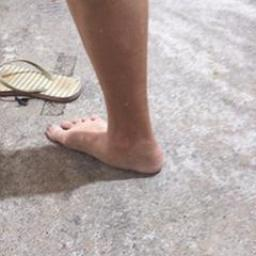Medial View -Right Foot-: (38, 94, 168, 181)
